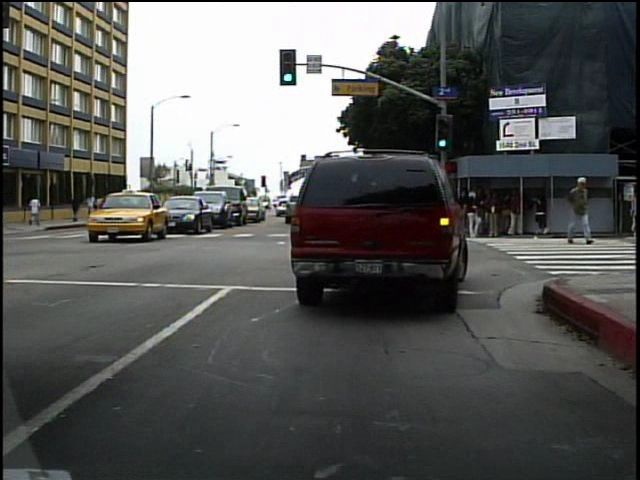person: (565, 169, 593, 248), (26, 193, 44, 230)
